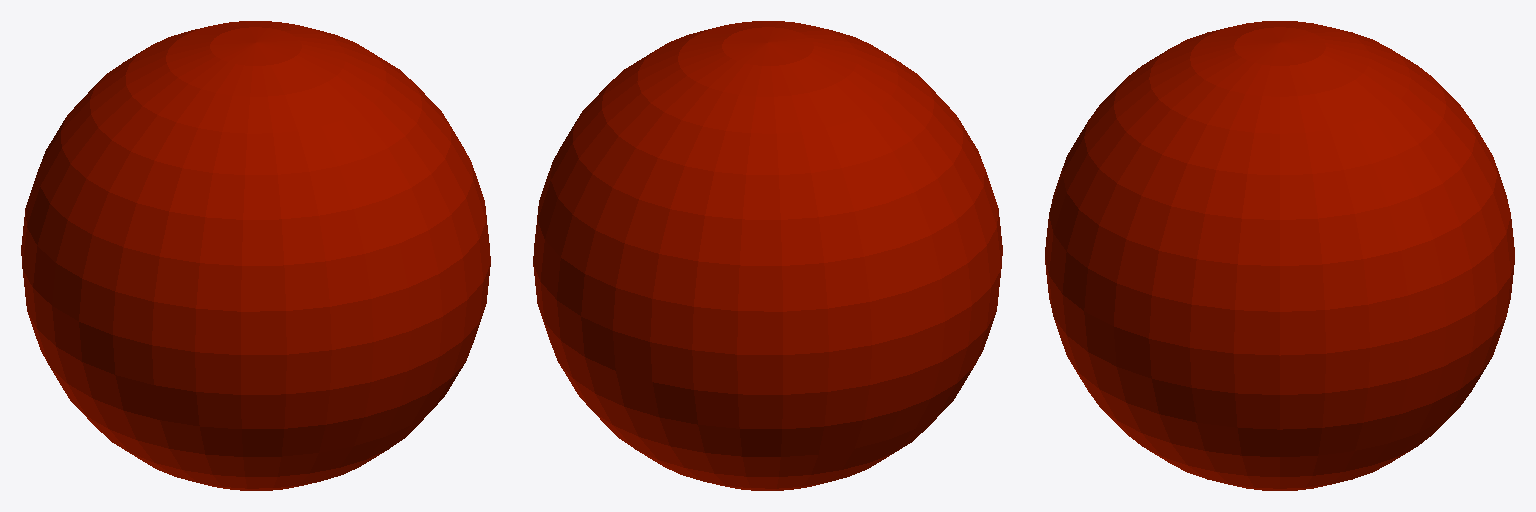
File: shipcore.obj
3 renders of one model, left to right at view 1: azimuth 30°, elevation 25°; view 2: azimuth 150°, elevation 25°; view 3: azimuth 270°, elevation 25°, orthographic.
Visible parts, largest first — view 1: Object.2; view 2: Object.2; view 3: Object.2.
Boxes of the visible parts, <box> form: Object.2: <box>21,21,490,490</box>; Object.2: <box>533,21,1002,490</box>; Object.2: <box>1045,21,1514,490</box>.
Bounding box in the file's own units: 1 × 1 × 1.